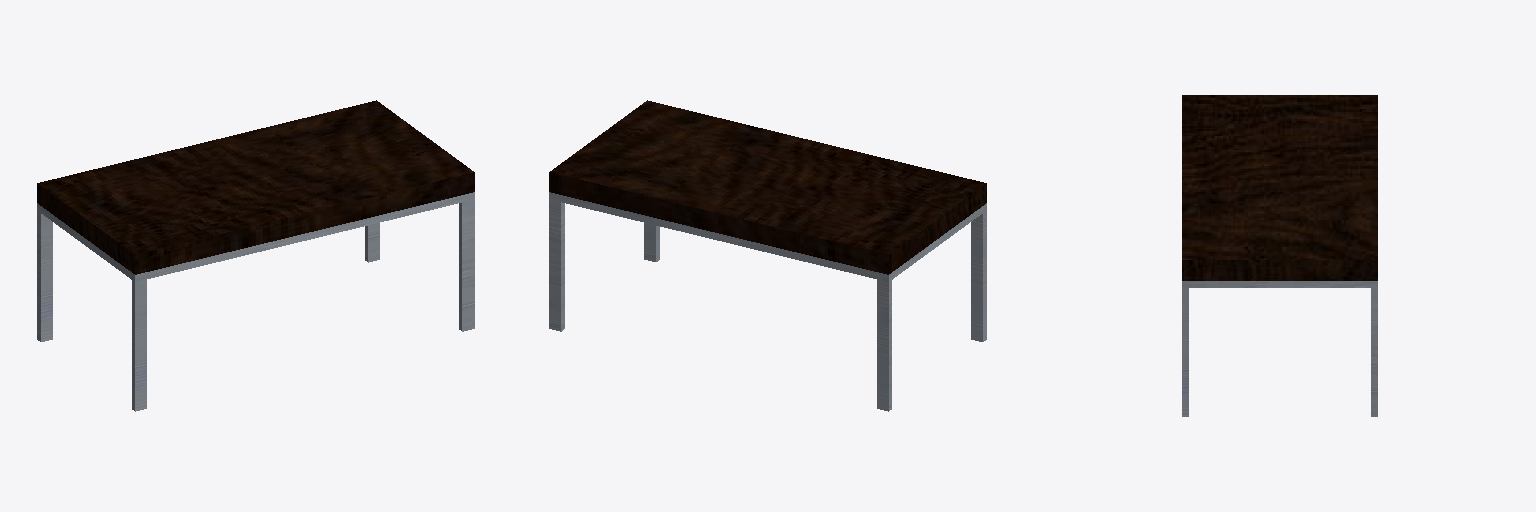
3 renders of one model, left to right at view 1: azimuth 30°, elevation 25°; view 2: azimuth 150°, elevation 25°; view 3: azimuth 270°, elevation 25°, orthographic.
Parts seen in each view (by area): view 1: Mesh1 Component_1_1 Model; view 2: Mesh1 Component_1_1 Model; view 3: Mesh1 Component_1_1 Model.
Part boxes in pixels (bbox=[...]): Mesh1 Component_1_1 Model: bbox=[37, 100, 474, 411]; Mesh1 Component_1_1 Model: bbox=[549, 100, 986, 411]; Mesh1 Component_1_1 Model: bbox=[1182, 95, 1377, 416].
Size of the model in its own units: 137 by 60.26 by 68.3.
2 materials, 2 textured.